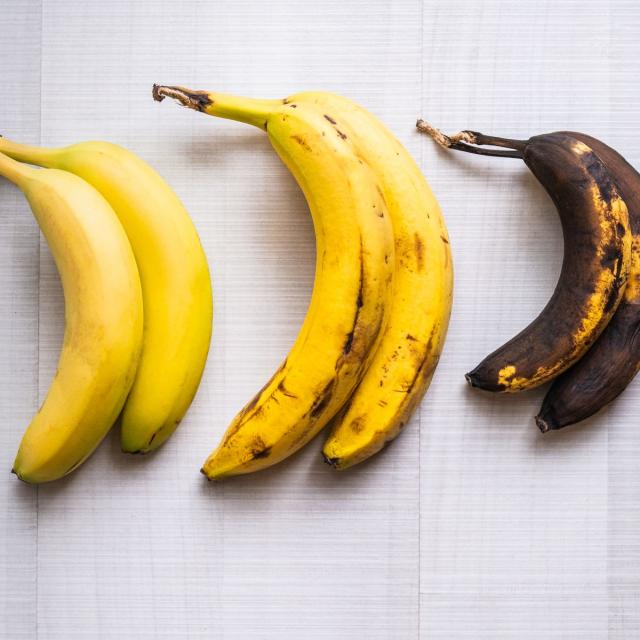banana: (191, 95, 393, 480), (287, 89, 454, 469), (14, 136, 212, 452), (1, 167, 144, 485), (463, 135, 633, 394), (535, 130, 640, 432)
